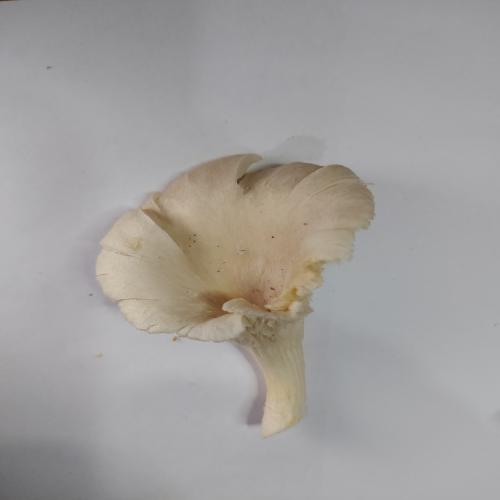Oyster Mushroom: (94, 151, 376, 438)
